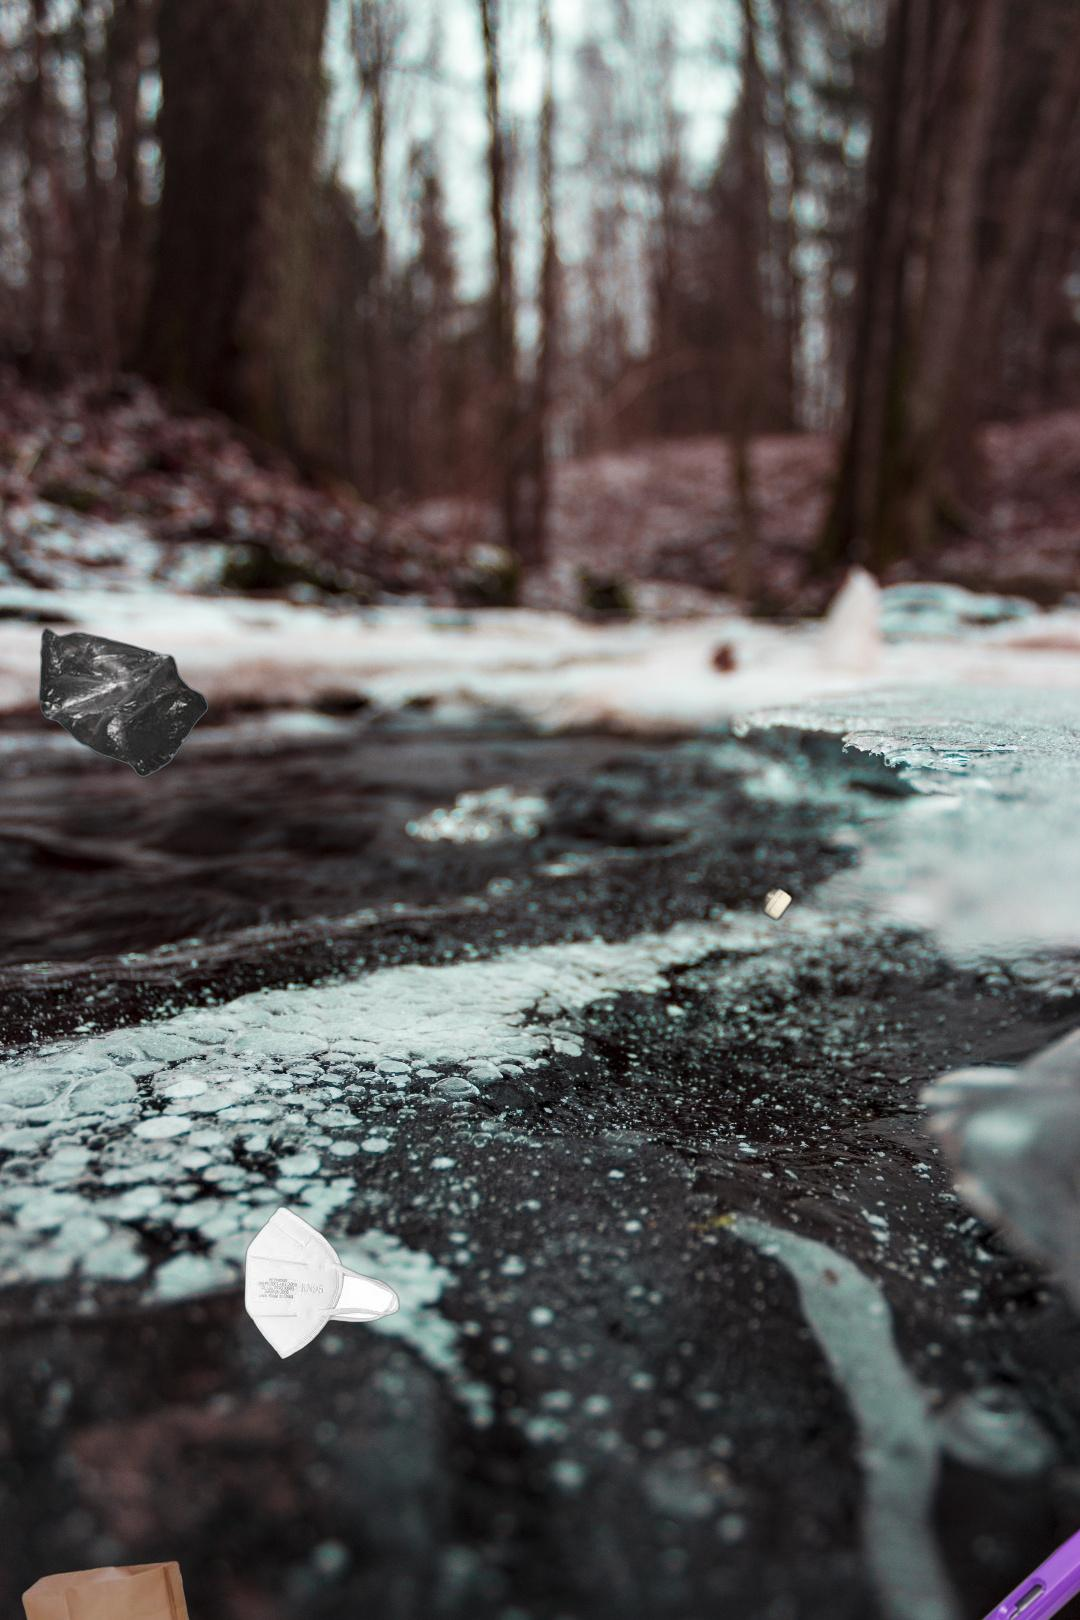paper-bag: (7, 1557, 307, 1620)
penholder: (822, 1432, 1080, 1620)
plastic-bag: (36, 626, 209, 777)
plastic-bottles: (472, 730, 797, 1161)
trash: (242, 1204, 403, 1362)
